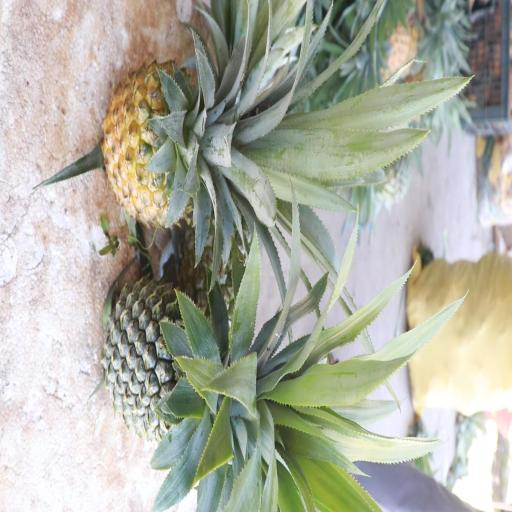Pineapple - v8 v1: (99, 56, 302, 232)
